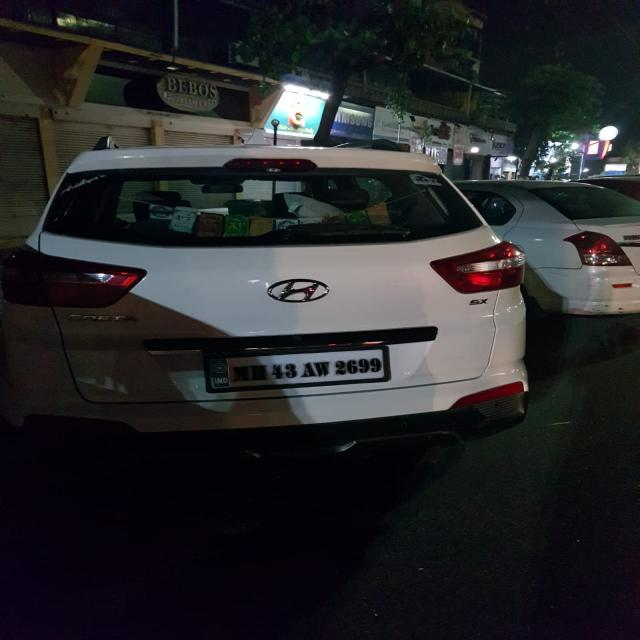Number-Plate: (211, 347, 387, 391)
